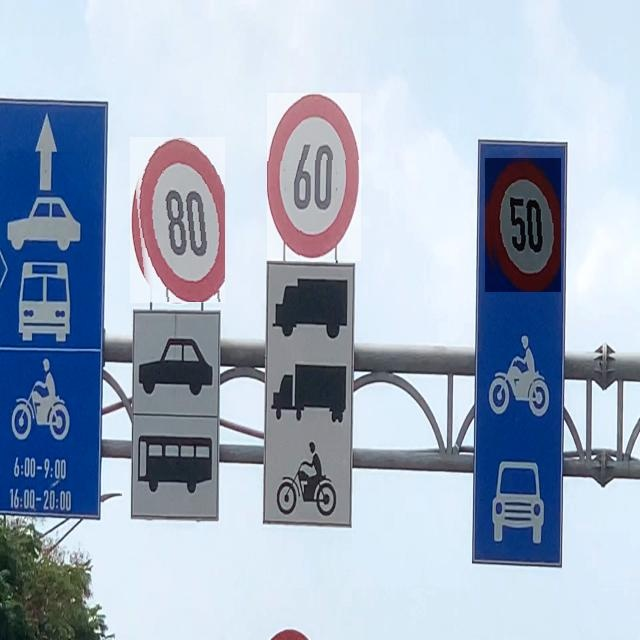bien_chi_dan: (267, 93, 361, 261), (130, 138, 225, 304), (485, 158, 561, 292)
